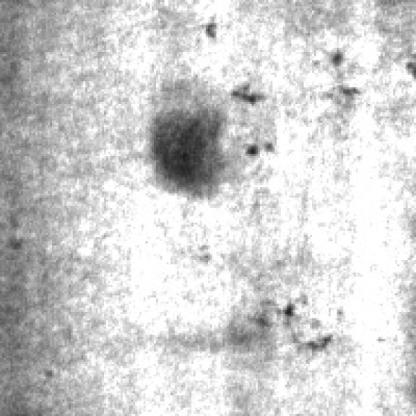patches: (140, 96, 221, 200)
